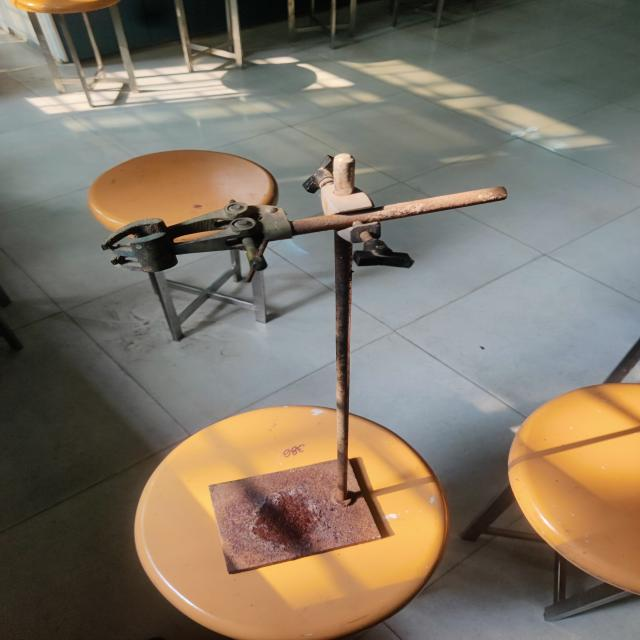Burette_Stands: (66, 127, 555, 597)
